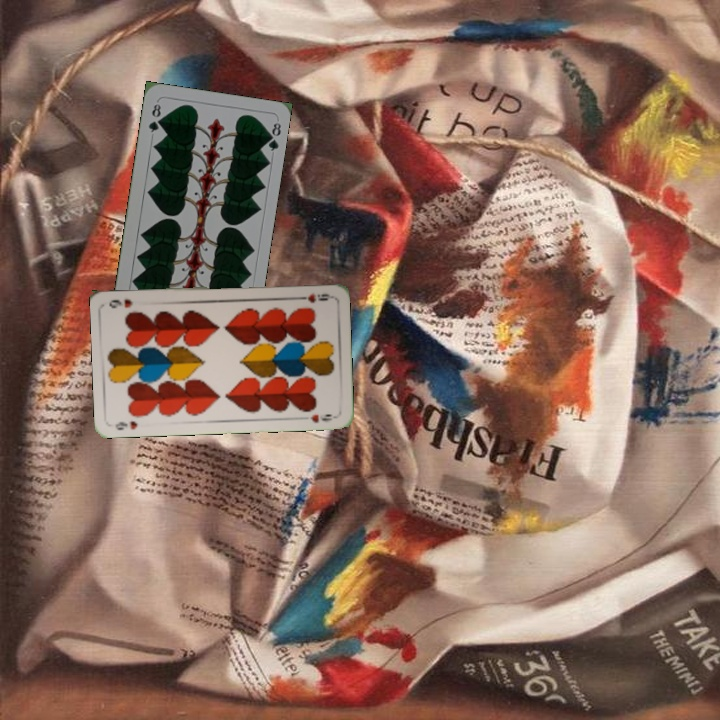G8: (144, 98, 163, 135)
H9: (293, 289, 333, 305), (111, 417, 140, 432)
